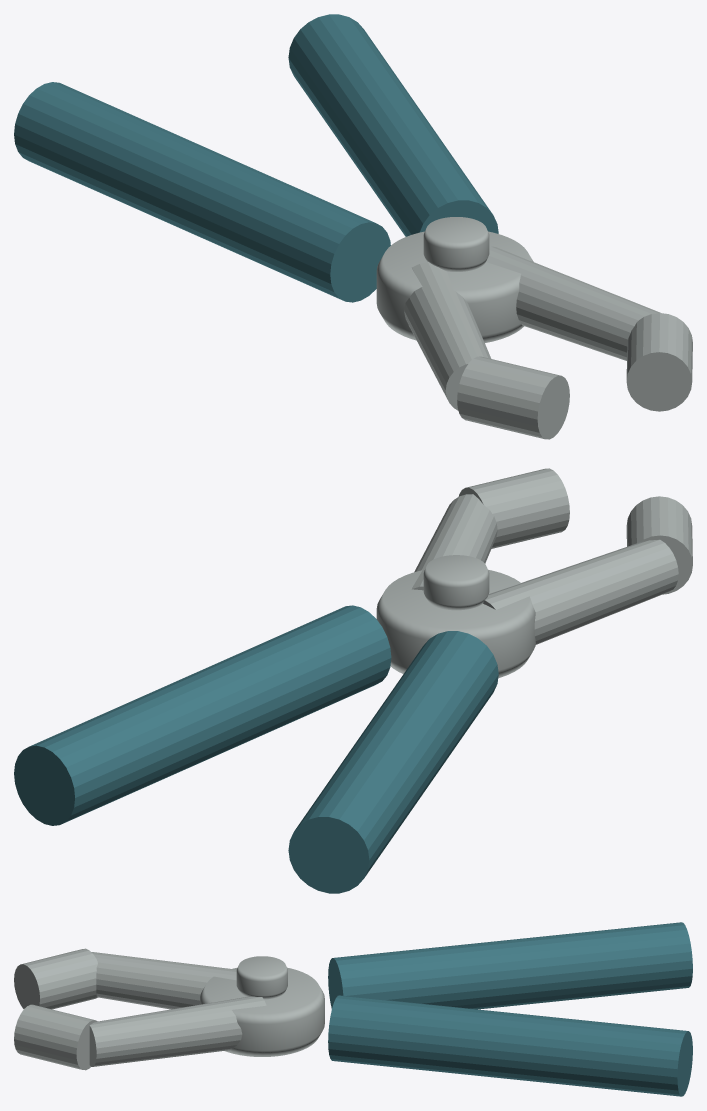
Rendered from optician-and-optical-lens-workshop-optician-and-optica-2ac0cc13__31703.glb.
3 views of the same model, one above another, from view 1: azimuth 30°, elevation 25°; view 2: azimuth 150°, elevation 25°; view 3: azimuth 270°, elevation 25° (orthographic). The views are drawn at different scales.
Visible parts, largest first — view 1: optician-and-optical-lens-workshop-temple-bending-pliers; view 2: optician-and-optical-lens-workshop-temple-bending-pliers; view 3: optician-and-optical-lens-workshop-temple-bending-pliers.
Boxes of the visible parts, left/top/right/bottom form: optician-and-optical-lens-workshop-temple-bending-pliers: left=14, top=14, right=692, bottom=439; optician-and-optical-lens-workshop-temple-bending-pliers: left=14, top=468, right=692, bottom=893; optician-and-optical-lens-workshop-temple-bending-pliers: left=14, top=922, right=692, bottom=1096.
Bounding box in the file's own units: 0.0875 × 0.022 × 0.1847.
